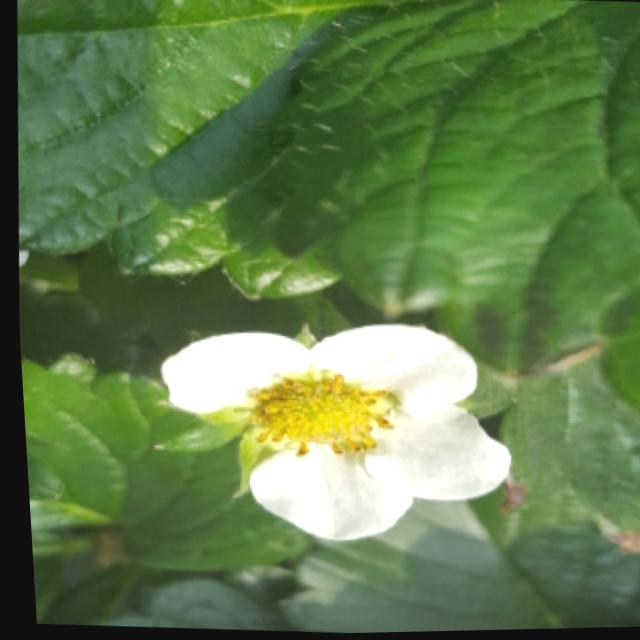Blossom Blight: (237, 369, 397, 464)
